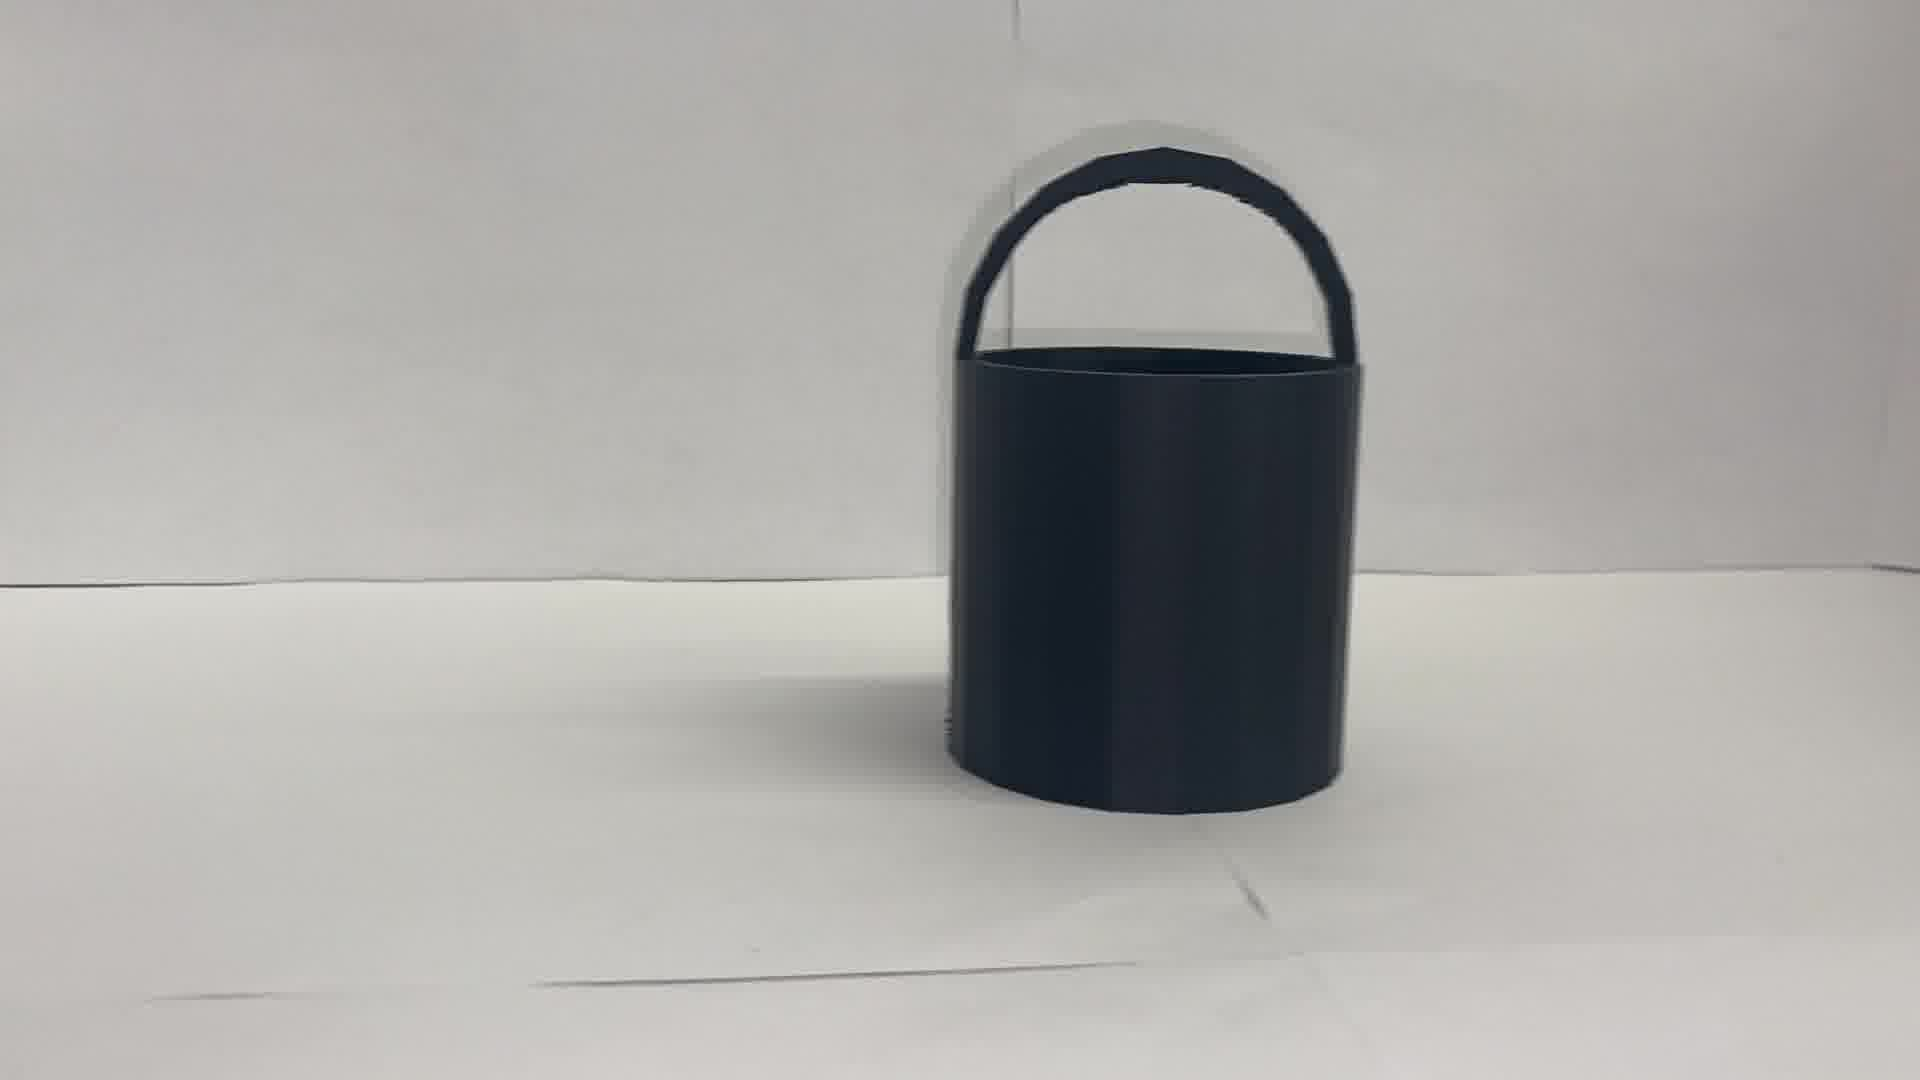bag: (940, 135, 1367, 811)
